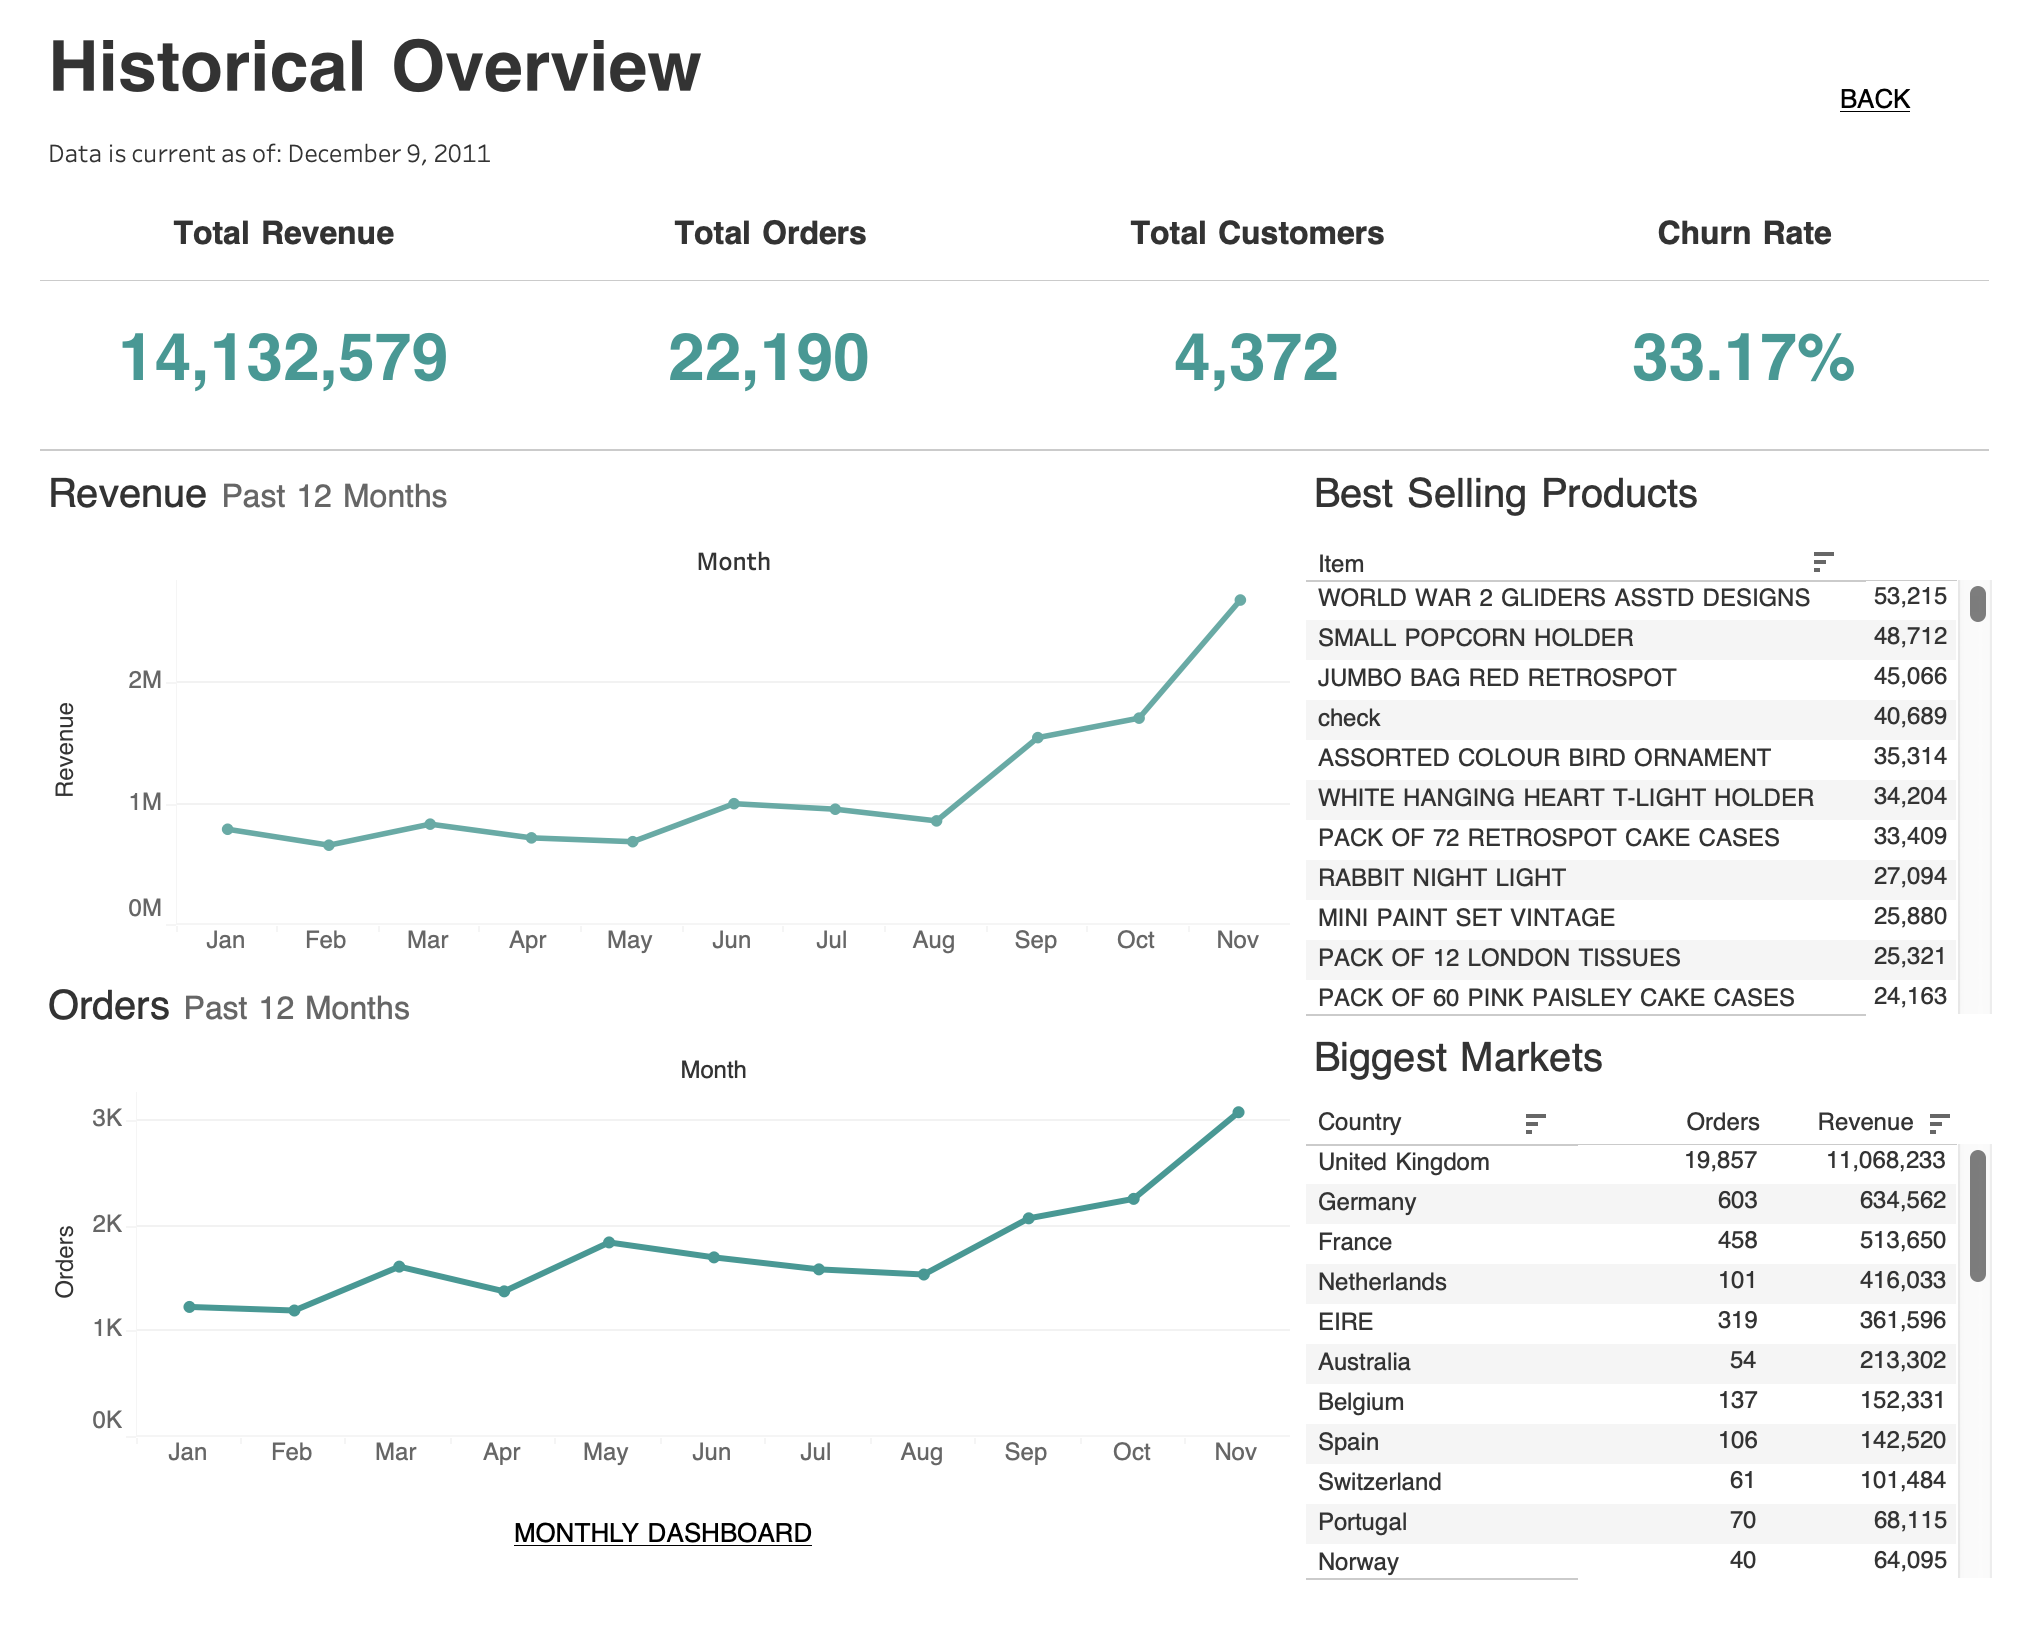

The page's visual inventory and layout, read from the dashboard file:
{"tool":"tableau","page":{"name":"Alltime Dashboard","canvas":[1000,800],"ordinal":0},"visuals":[{"type":"worksheet","title":"Alltime Title","mark":"Automatic","box":[8,8,492,82]},{"type":"blank","box":[746,8,123,82]},{"type":"dashboard-object","box":[869,8,123,82]},{"type":"worksheet","title":"KPIs","mark":"Automatic","box":[8,90,984,138]},{"type":"worksheet","title":"Monthly Revenue","mark":"Automatic","rows":["revenue"],"cols":["month"],"box":[8,228,633,256]},{"type":"worksheet","title":"Popular Products","mark":"Automatic","rows":["item"],"box":[641,228,351,282]},{"type":"worksheet","title":"Monthly Orders","mark":"Automatic","rows":["orders"],"cols":["month"],"box":[8,484,633,256]},{"type":"worksheet","title":"Biggest Markets","mark":"Automatic","rows":["country"],"box":[641,510,351,282]},{"type":"dashboard-object","box":[8,740,633,52]}]}

Visuals, with their boxes in screenshot pixels (x1, y1, x2, y2), scaled from the page's 1000x800 canvas onto the 2040x1628 screenshot:
"Alltime Title" worksheet: (16,16,1020,183)
blank: (1522,16,1773,183)
dashboard-object: (1773,16,2024,183)
"KPIs" worksheet: (16,183,2024,464)
"Monthly Revenue" worksheet: (16,464,1308,985)
"Popular Products" worksheet: (1308,464,2024,1038)
"Monthly Orders" worksheet: (16,985,1308,1506)
"Biggest Markets" worksheet: (1308,1038,2024,1612)
dashboard-object: (16,1506,1308,1612)
